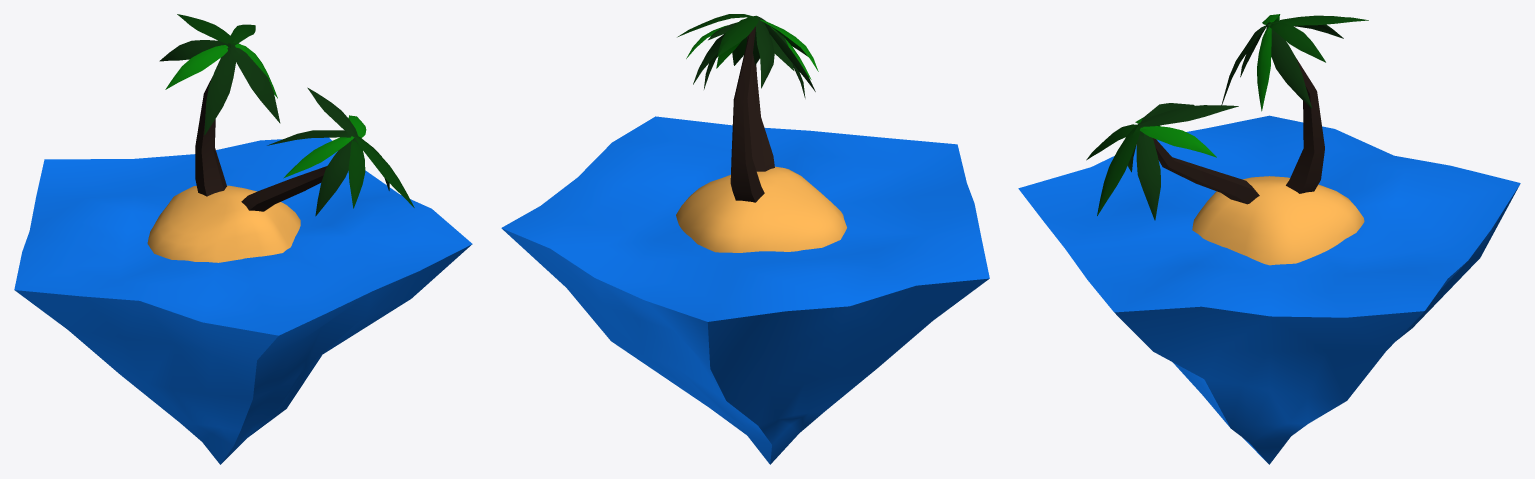
Rendered from uploads_files_737265_1.obj.
3 renders of one model, left to right at view 1: azimuth 30°, elevation 25°; view 2: azimuth 150°, elevation 25°; view 3: azimuth 270°, elevation 25°, orthographic. The views are drawn at different scales.
Parts seen in each view (by area): view 1: pPyramid1, pSphere1, Tree pCylinder1, tree_2:Tree tree_2:pCylinder1, Tree pPlane2, Tree pPlane6, tree_2:pPlane1 tree_2:Tree, Tree pPlane7, tree_2:Tree tree_2:pPlane8, tree_2:Tree tree_2:pPlane5, tree_2:Tree tree_2:pPlane4, Tree pPlane3 (+3 smaller); view 2: pPyramid1, pSphere1, Tree pCylinder1, tree_2:Tree tree_2:pCylinder1, Tree pPlane3, Tree pPlane4; view 3: pPyramid1, pSphere1, Tree pCylinder1, tree_2:Tree tree_2:pCylinder1, tree_2:Tree tree_2:pPlane3, pPlane1 Tree, tree_2:Tree tree_2:pPlane4, tree_2:Tree tree_2:pPlane2, tree_2:Tree tree_2:pPlane7, Tree pPlane8, Tree pPlane5, Tree pPlane4.
Boxes of the visible parts, <box> form: pPyramid1: <box>14,137,472,464</box>; pSphere1: <box>147,185,300,262</box>; Tree pCylinder1: <box>195,76,226,196</box>; tree_2:Tree tree_2:pCylinder1: <box>241,166,327,211</box>; Tree pPlane2: <box>204,44,235,135</box>; Tree pPlane6: <box>231,47,280,123</box>; tree_2:pPlane1 tree_2:Tree: <box>315,138,357,216</box>; Tree pPlane7: <box>165,45,228,89</box>; tree_2:Tree tree_2:pPlane8: <box>283,136,354,178</box>; tree_2:Tree tree_2:pPlane5: <box>348,140,365,208</box>; tree_2:Tree tree_2:pPlane4: <box>355,136,414,207</box>; Tree pPlane3: <box>159,40,230,61</box>; pPyramid1: <box>501,116,989,464</box>; pSphere1: <box>676,166,846,252</box>; Tree pCylinder1: <box>730,26,764,202</box>; tree_2:Tree tree_2:pCylinder1: <box>746,35,774,171</box>; Tree pPlane3: <box>755,17,774,88</box>; Tree pPlane4: <box>717,15,758,56</box>; pPyramid1: <box>1018,115,1520,464</box>; pSphere1: <box>1192,176,1364,265</box>; Tree pCylinder1: <box>1286,58,1324,193</box>; tree_2:Tree tree_2:pCylinder1: <box>1152,138,1259,204</box>; tree_2:Tree tree_2:pPlane3: <box>1136,126,1160,220</box>; pPlane1 Tree: <box>1266,23,1311,108</box>; tree_2:Tree tree_2:pPlane4: <box>1097,123,1140,215</box>; tree_2:Tree tree_2:pPlane2: <box>1138,105,1238,126</box>; tree_2:Tree tree_2:pPlane7: <box>1140,126,1216,157</box>; Tree pPlane8: <box>1257,26,1271,111</box>; Tree pPlane5: <box>1269,22,1325,62</box>; Tree pPlane4: <box>1267,15,1368,25</box>.
Bounding box in the file's own units: 36.93 × 38.58 × 38.83.
